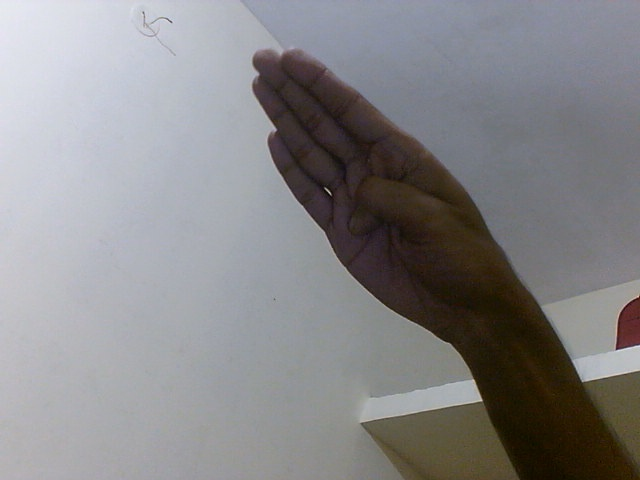hand: (246, 44, 514, 346)
